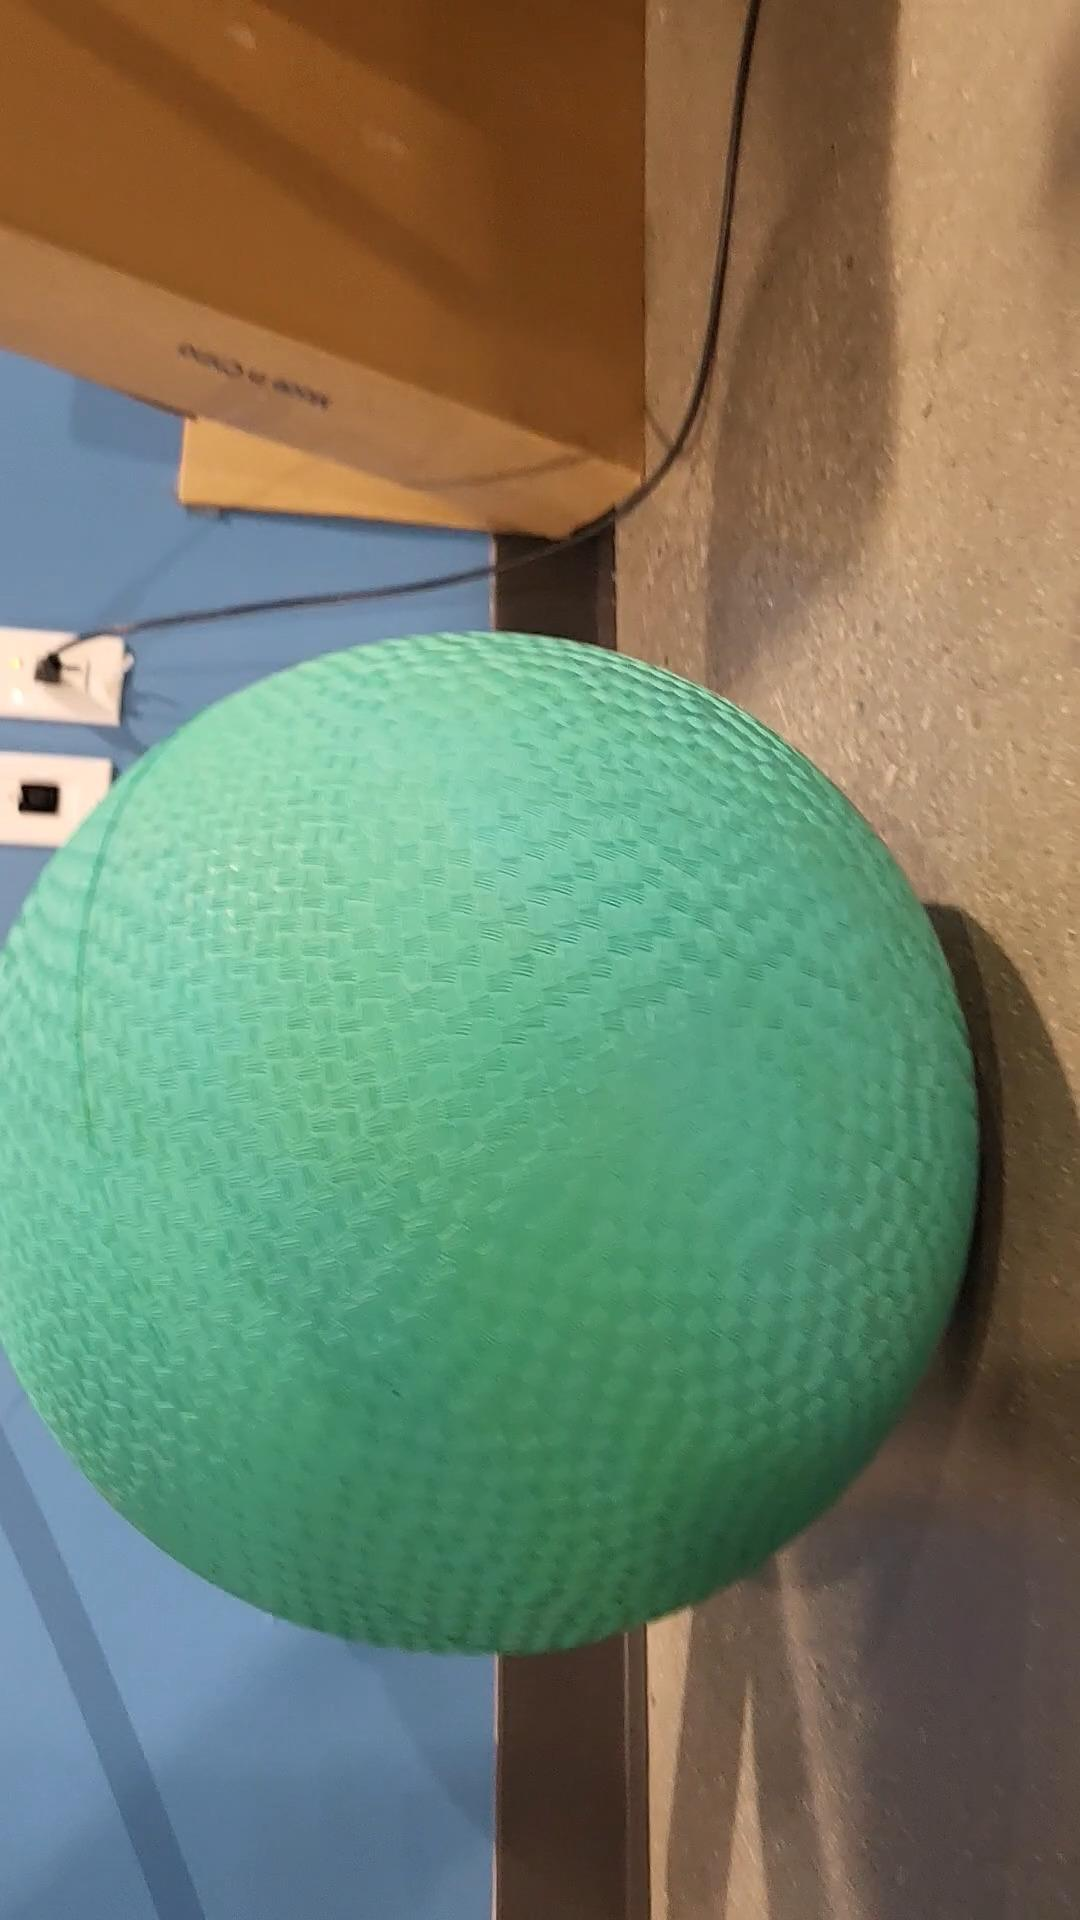algae: (0, 611, 1006, 1663)
